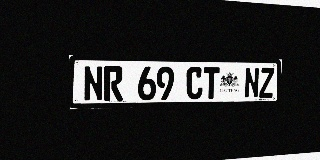6: (138, 66, 156, 100)
9: (156, 66, 174, 100)
C: (186, 67, 203, 99)
N: (83, 66, 103, 102), (244, 67, 260, 98)
R: (104, 66, 123, 101)
T: (203, 67, 220, 99)
Z: (259, 68, 274, 98)
